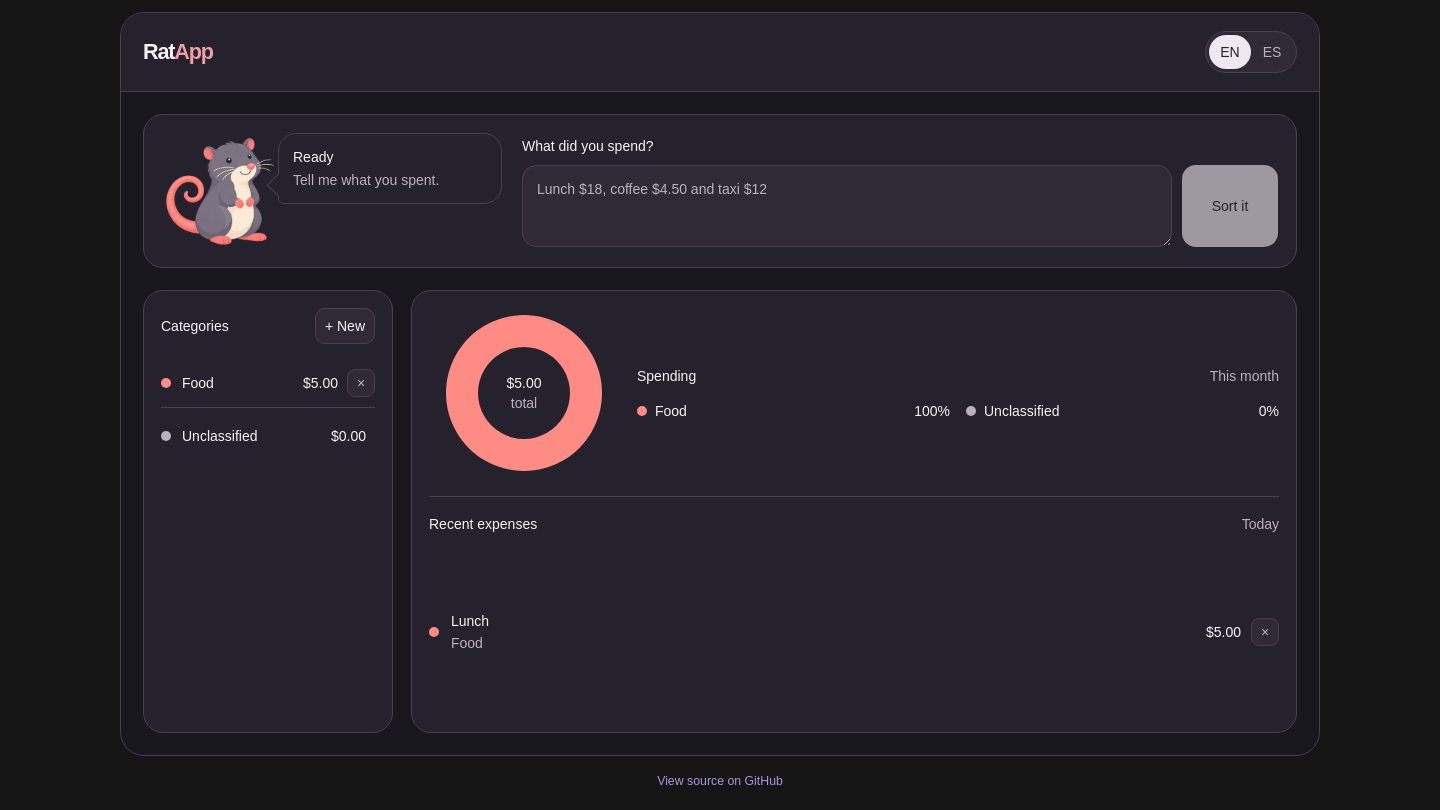
Test case: DashboardPage API composition › routes expense deletion failures through dashboard error feedback
The image size is (1440, 810).
Click the button named "Delete Lunch" at point(1265, 632), box left=1251, top=618, right=1279, bottom=646
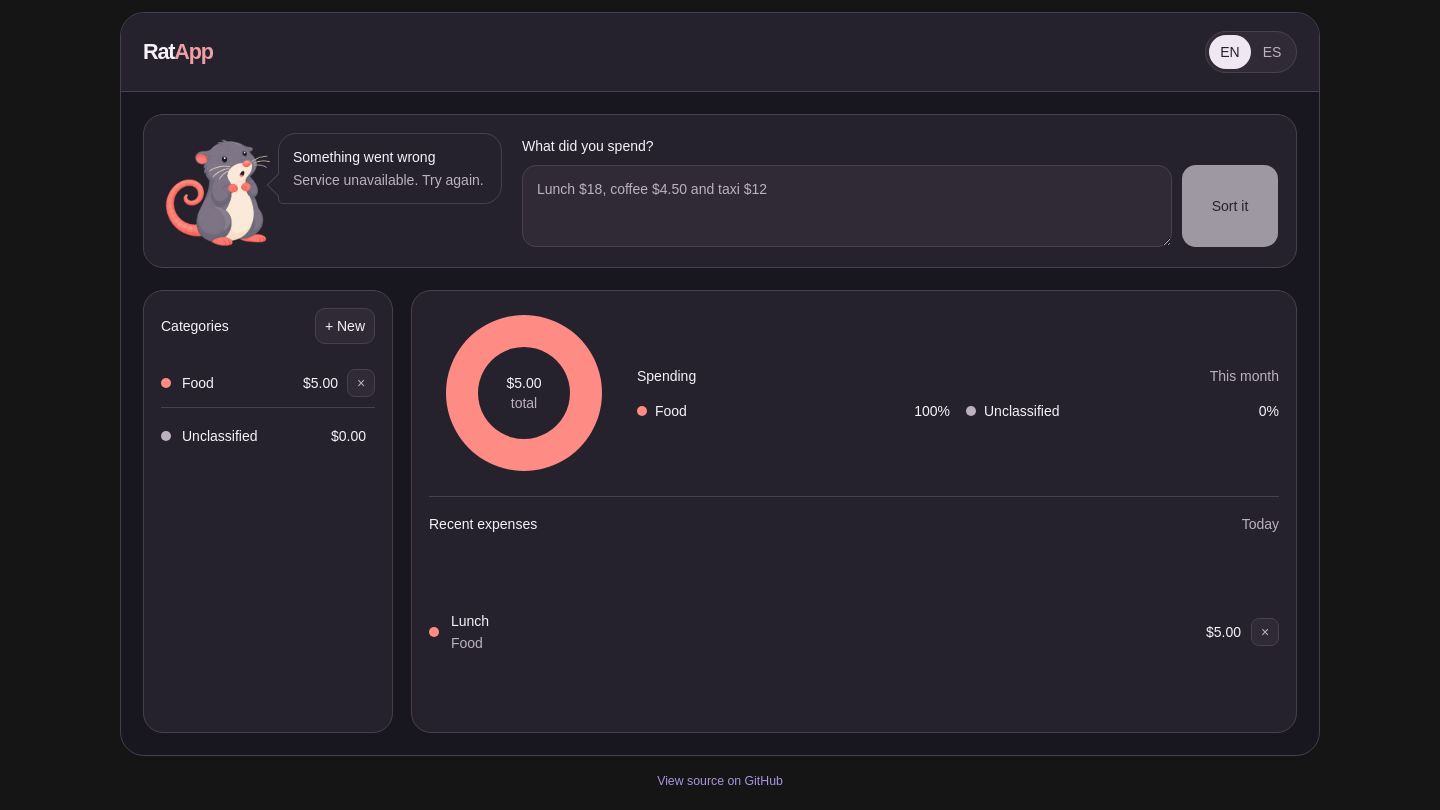
Expected: the text "Lunch" is shown, left=451, top=613, right=489, bottom=629
Expected: the message shows "Service unavailable. Try again.", left=293, top=172, right=484, bottom=188
